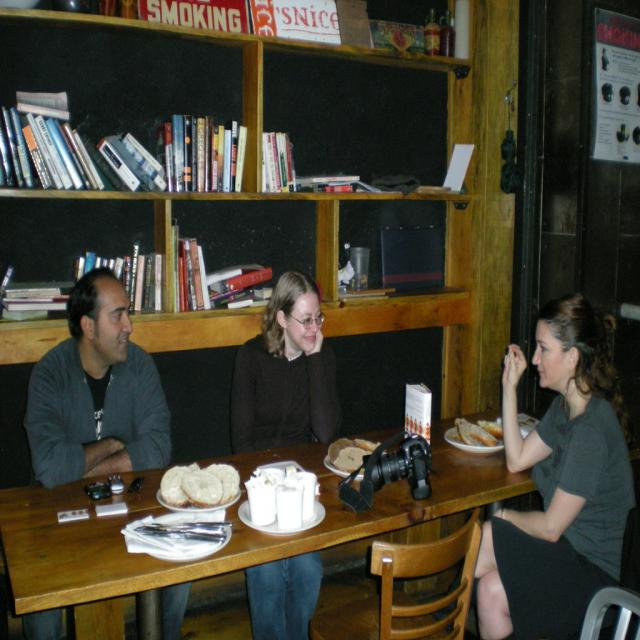chair: (368, 511, 482, 640), (579, 516, 640, 640), (581, 586, 639, 640)
desk: (0, 410, 544, 640)
person: (472, 294, 637, 640), (25, 270, 174, 486), (229, 270, 342, 451)
